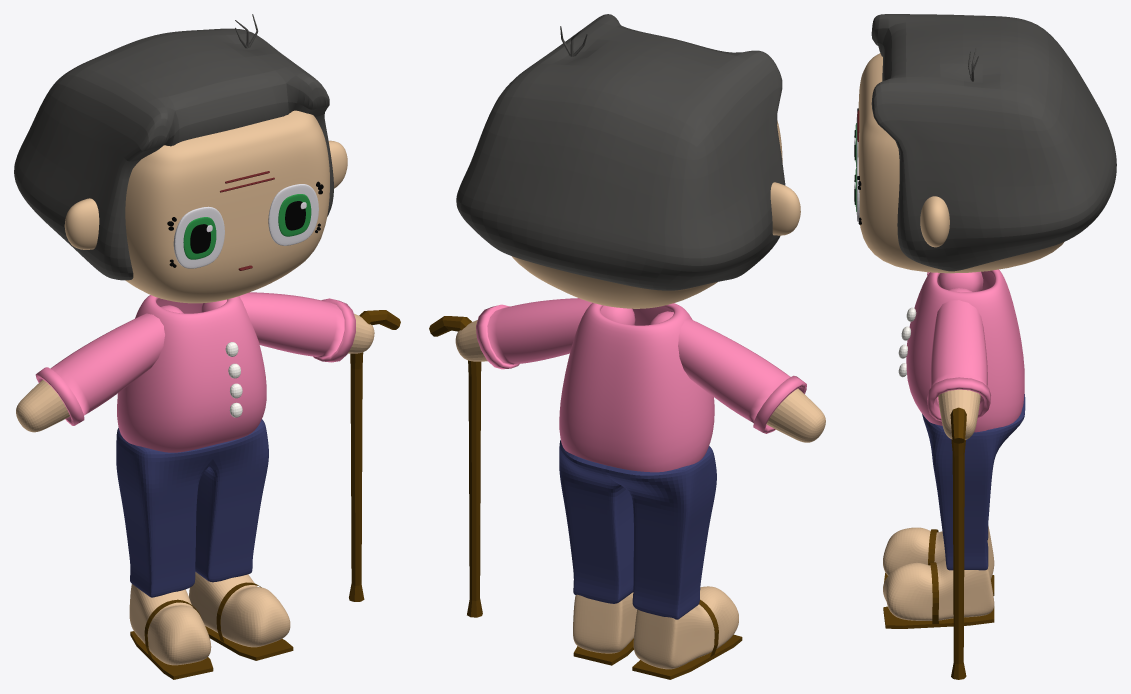
Rendered from Adulto.fbx.
3 renders of one model, left to right at view 1: azimuth 30°, elevation 25°; view 2: azimuth 150°, elevation 25°; view 3: azimuth 270°, elevation 25°, orthographic. The views are drawn at different scales.
Visible parts, largest first — view 1: Cabelo.002, Cabeca.001, Cube, Corpo.001, Jaqueta.001, Cube.007, Cylinder, Olho Todo.001, Bracos.001, Orelhas.001, Plane, Olho Dentro.001 (+2 smaller); view 2: Cabelo.002, Corpo.001, Cube, Jaqueta.001, Cube.007, Cylinder, Cabeca.001, Bracos.001, Plane, Orelhas.001; view 3: Cabelo.002, Corpo.001, Cabeca.001, Cube.007, Cube, Jaqueta.001, Cylinder, Bracos.001, Orelhas.001, Plane, Sphere.
Part boxes in pixels (left/top/right/bottom): Cabelo.002: left=14, top=28, right=333, bottom=280; Cabeca.001: left=125, top=110, right=329, bottom=303; Cube: left=116, top=419, right=268, bottom=597; Corpo.001: left=117, top=295, right=266, bottom=452; Jaqueta.001: left=35, top=292, right=355, bottom=425; Cube.007: left=129, top=572, right=290, bottom=665; Cylinder: left=349, top=310, right=400, bottom=601; Olho Todo.001: left=173, top=184, right=318, bottom=268; Bracos.001: left=16, top=313, right=374, bottom=432; Orelhas.001: left=64, top=140, right=347, bottom=249; Plane: left=130, top=626, right=293, bottom=679; Olho Dentro.001: left=183, top=194, right=311, bottom=259; Cabelo.002: left=456, top=14, right=785, bottom=290; Corpo.001: left=559, top=303, right=714, bottom=472; Cube: left=559, top=440, right=716, bottom=619; Jaqueta.001: left=476, top=298, right=806, bottom=433; Cube.007: left=573, top=586, right=738, bottom=669; Cylinder: left=429, top=316, right=482, bottom=617; Cabeca.001: left=511, top=120, right=782, bottom=308; Bracos.001: left=455, top=320, right=825, bottom=442; Plane: left=573, top=634, right=742, bottom=679; Orelhas.001: left=770, top=182, right=800, bottom=235; Cabelo.002: left=871, top=14, right=1116, bottom=271; Corpo.001: left=906, top=269, right=1024, bottom=432; Cabeca.001: left=858, top=53, right=1063, bottom=273; Cube.007: left=883, top=526, right=994, bottom=620; Cube: left=922, top=394, right=1025, bottom=570; Jaqueta.001: left=927, top=271, right=990, bottom=421; Cylinder: left=950, top=407, right=966, bottom=679; Bracos.001: left=938, top=389, right=980, bottom=439; Orelhas.001: left=920, top=196, right=949, bottom=247; Plane: left=883, top=573, right=994, bottom=628; Sphere: left=928, top=529, right=938, bottom=623.
Size of the model in its own units: 256 by 386 by 159.
